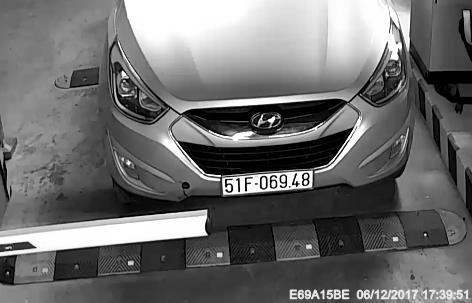License-plate: (215, 160, 319, 204)
